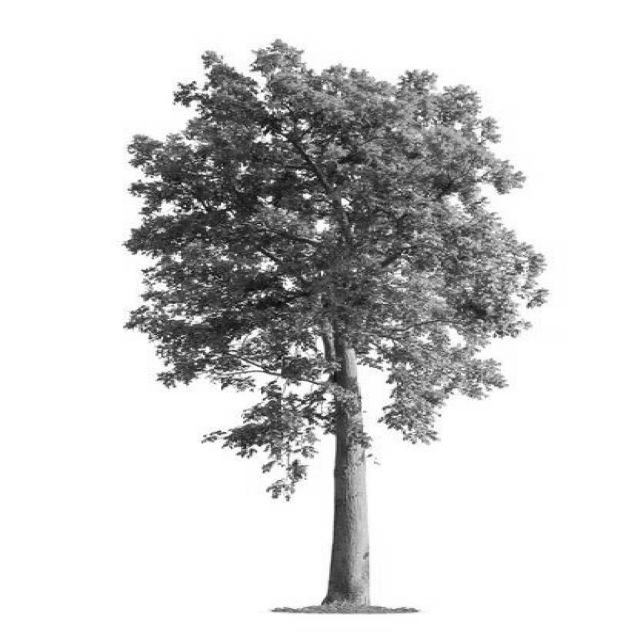Tree: (126, 41, 546, 604)
